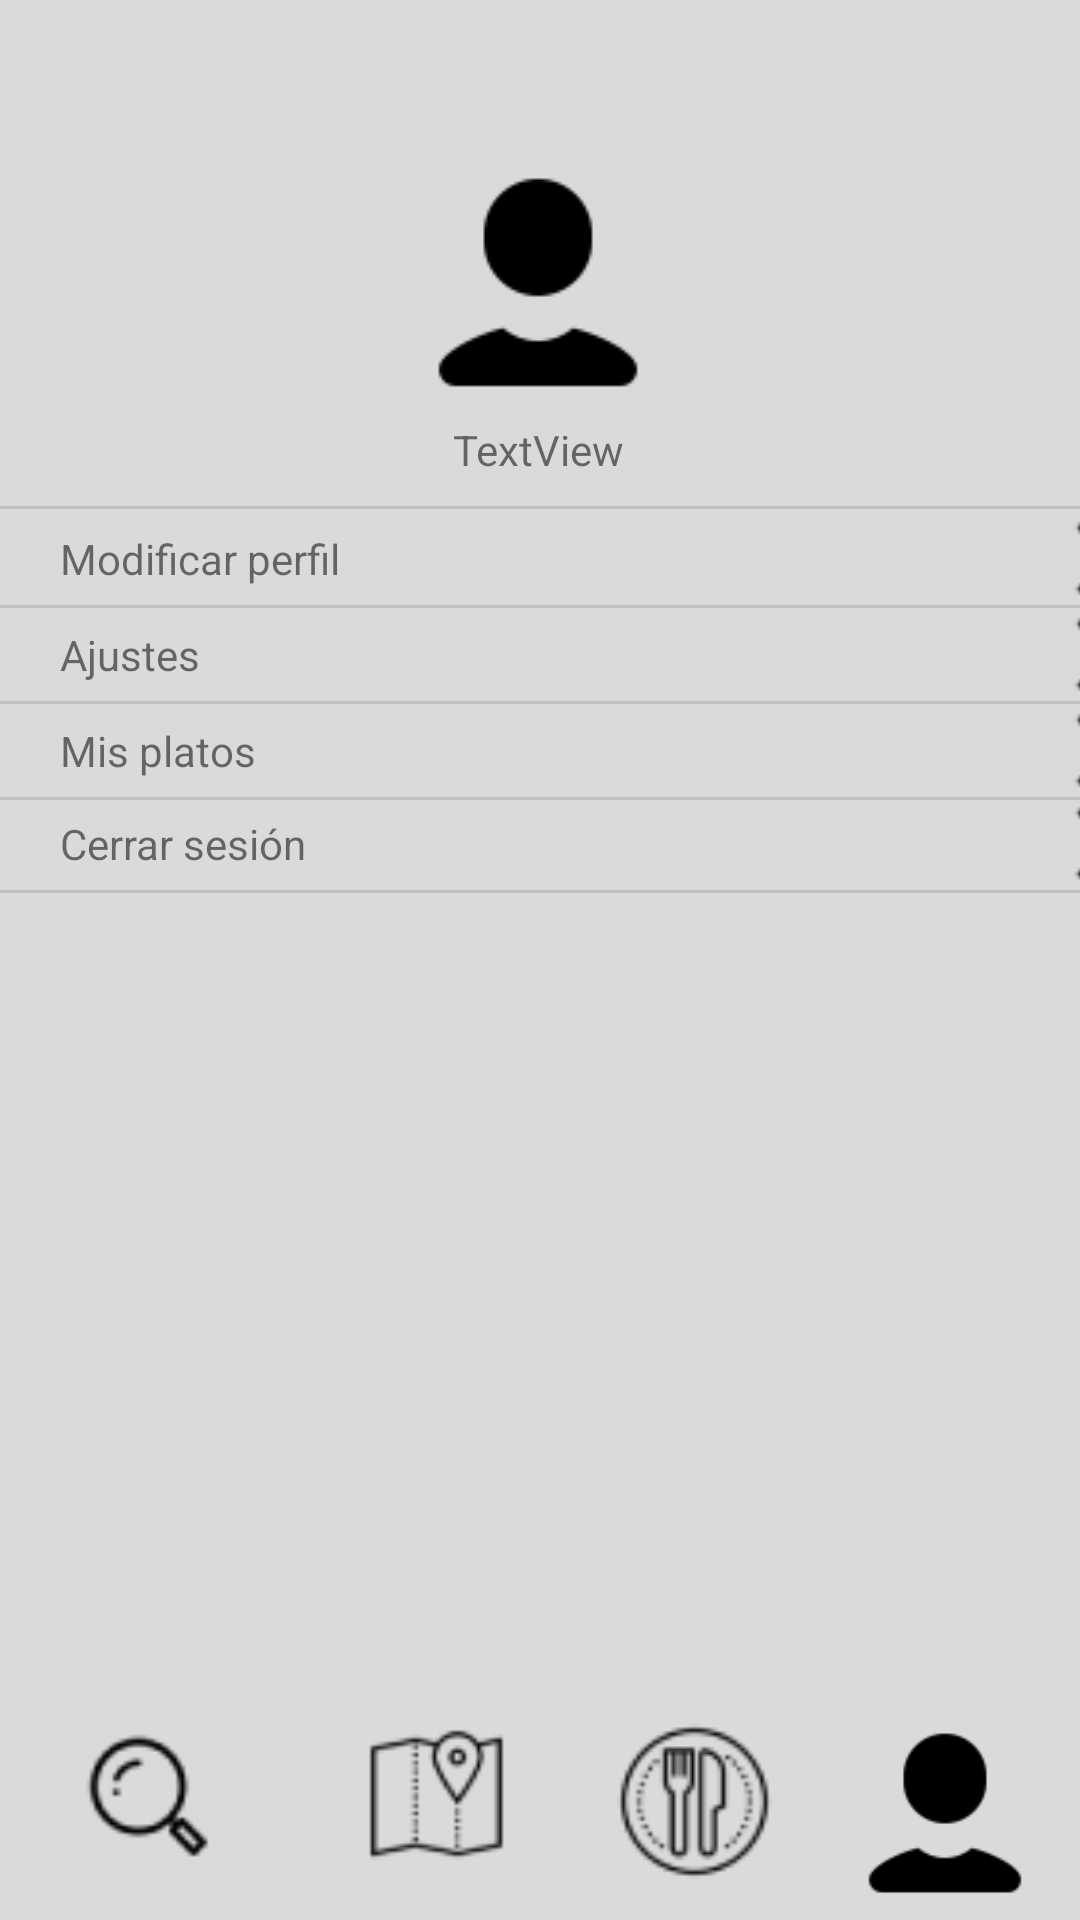

Named icons in this screenshot (1080x1920) and their bounding boxes, (x1, y1, x2, y2):
lupa: (88, 1735, 208, 1857)
mapa: (369, 1730, 504, 1858)
plato: (620, 1727, 769, 1876)
user: (438, 178, 638, 387), (868, 1733, 1022, 1893)
